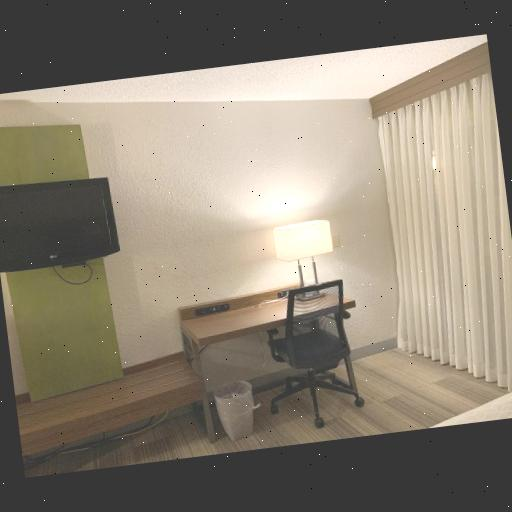chair: (264, 278, 370, 426)
lamp: (272, 214, 345, 302)
organized table: (178, 282, 354, 449)
